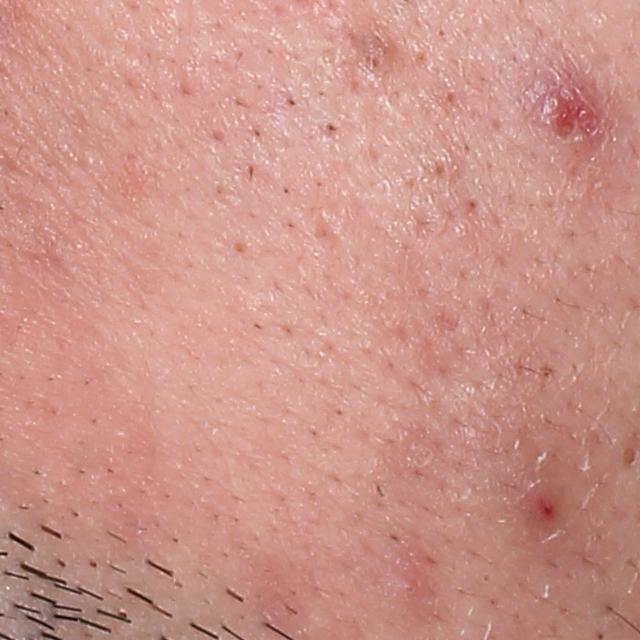comedo: (321, 119, 339, 137)
papule: (528, 81, 596, 140), (531, 485, 564, 528)
